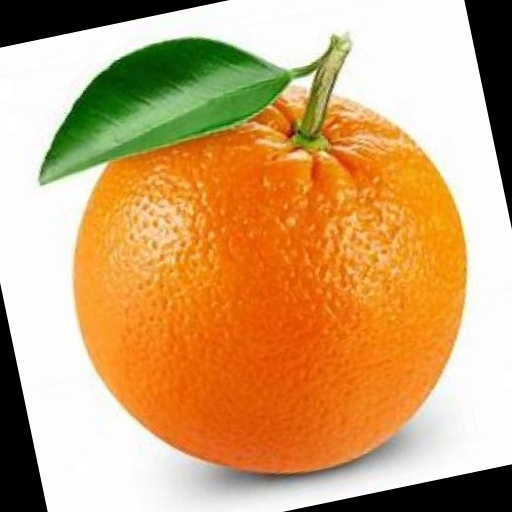fruit: (14, 180, 178, 512), (73, 15, 306, 112), (16, 92, 149, 243), (68, 12, 294, 94), (67, 7, 292, 83), (184, 57, 186, 60)
